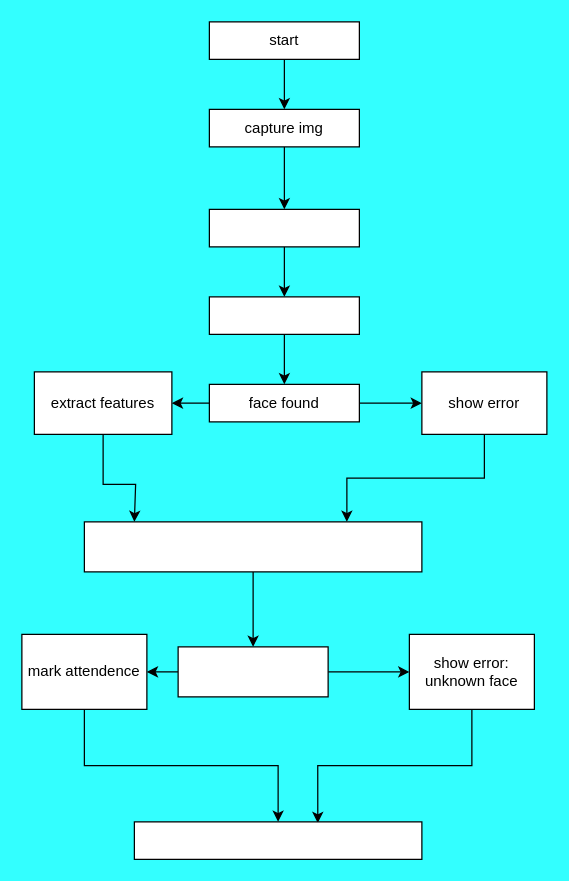
The diagram is 569 pixels wide and 881 high, and some of its shapes have lost their labels. Here are the shapes that lost their labels. From the top down, the centre of each, then its label:
At point (283, 227): "preprocess img".
At point (283, 315): "detect face".
At point (252, 546): "compare with database".
At point (252, 671): "match found".
